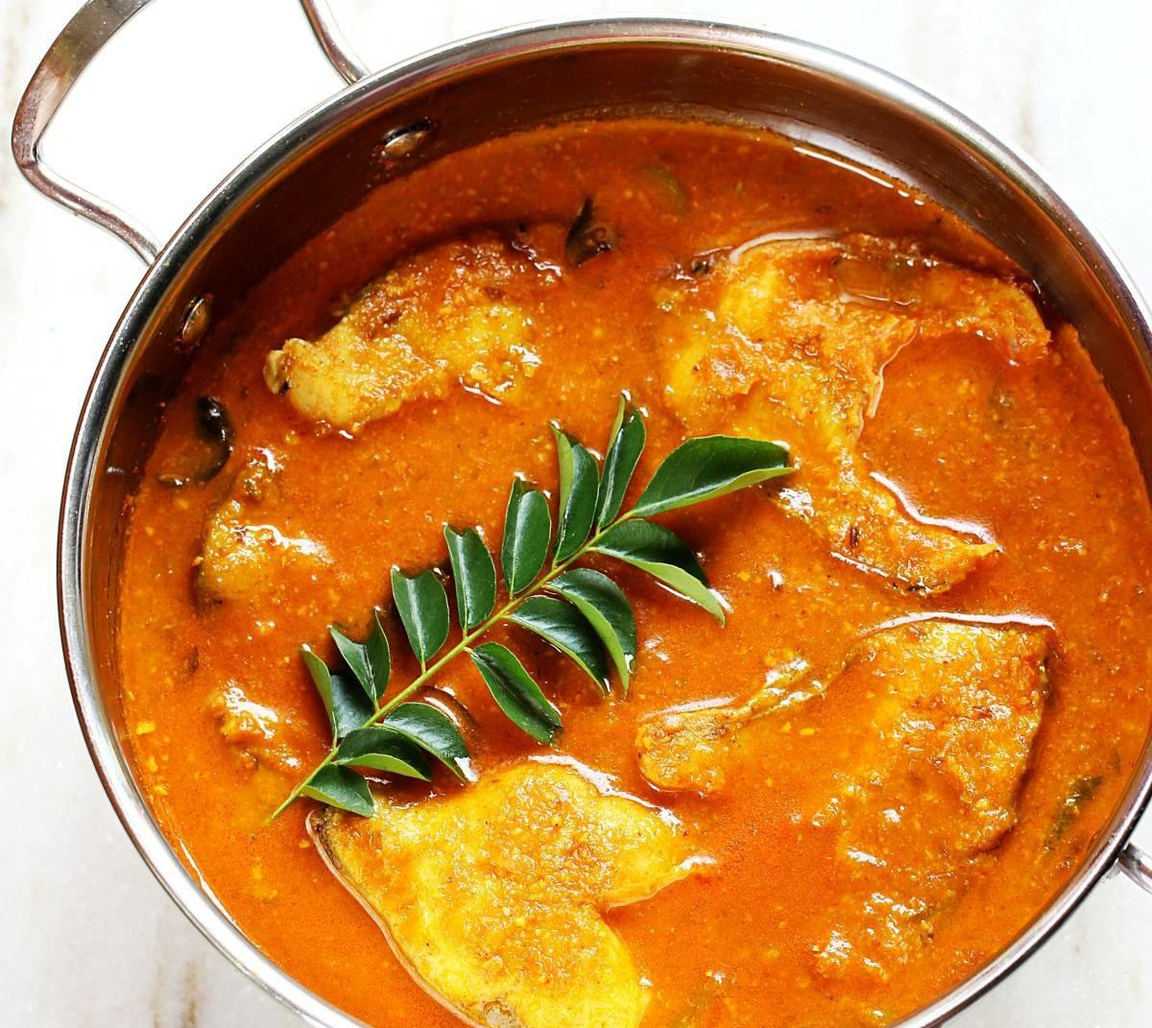FishCurry: (120, 108, 1152, 1028)
